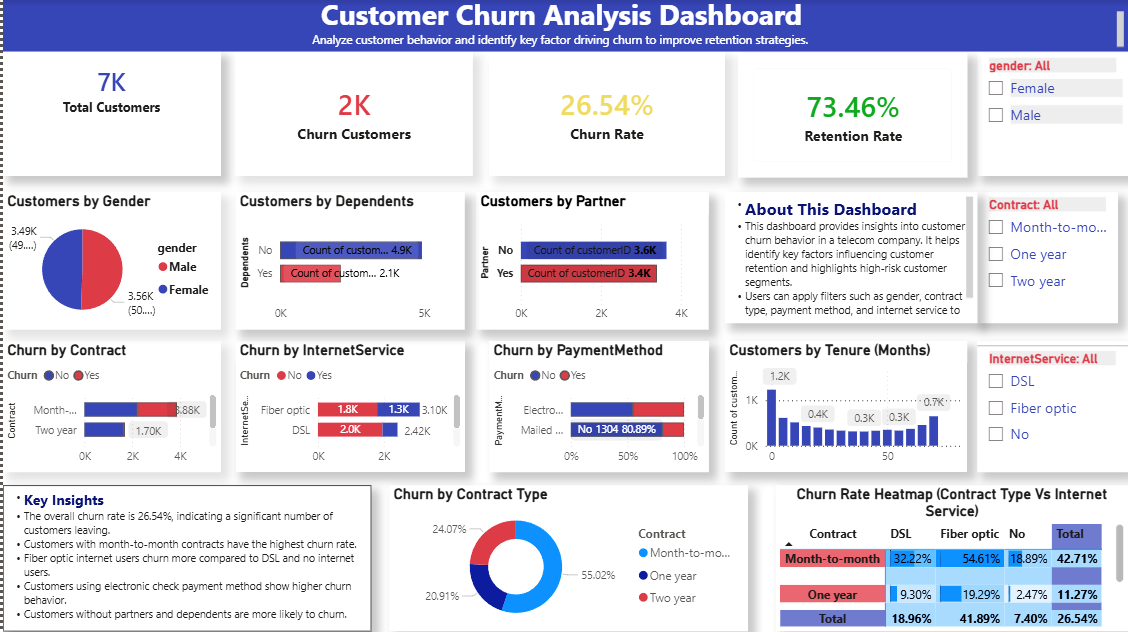

The dashboard page shown, as its layout file describes it:
{"tool":"powerbi","page":{"name":"Page 1","canvas":[1280,720],"ordinal":0},"visuals":[{"type":"cardVisual","fields":{"Data":["Telco_Customer_Churn_Dataset.Total Customers"]},"box":[0,59.6,247.8,141.6],"z":0},{"type":"cardVisual","fields":{"Data":["Telco_Customer_Churn_Dataset.Churn Customers"]},"box":[264.5,59.6,270.1,141.6],"z":1000},{"type":"cardVisual","fields":{"Data":["Telco_Customer_Churn_Dataset.Churn Rate"]},"box":[553.3,59.6,268.3,141.6],"z":2000},{"type":"clusteredBarChart","title":"Customers by Partner","fields":{"Category":["Telco_Customer_Churn_Dataset.Partner"],"Y":["CountNonNull(Telco_Customer_Churn_Dataset.customerID)"]},"box":[538.4,219.8,264.5,156.5],"z":4000},{"type":"clusteredColumnChart","title":"Customers by Tenure (Months)","fields":{"Y":["CountNonNull(Telco_Customer_Churn_Dataset.customerID)"],"Category":["Telco_Customer_Churn_Dataset.tenure (bins)"]},"box":[821.6,389.4,275.7,149],"z":5000},{"type":"barChart","title":"Churn by Contract","fields":{"Category":["Telco_Customer_Churn_Dataset.Contract"],"Y":["CountNonNull(Telco_Customer_Churn_Dataset.customerID)"],"Series":["Telco_Customer_Churn_Dataset.Churn"]},"box":[0,389.4,247.8,149],"z":6000},{"type":"hundredPercentStackedBarChart","title":"Churn by PaymentMethod ","fields":{"Category":["Telco_Customer_Churn_Dataset.PaymentMethod"],"Y":["CountNonNull(Telco_Customer_Churn_Dataset.Churn)"],"Series":["Telco_Customer_Churn_Dataset.Churn"]},"box":[553.3,389.4,249.6,149],"z":7000},{"type":"barChart","title":"Churn by InternetService ","fields":{"Category":["Telco_Customer_Churn_Dataset.InternetService"],"Series":["Telco_Customer_Churn_Dataset.Churn"],"Y":["CountNonNull(Telco_Customer_Churn_Dataset.customerID)"]},"box":[264.5,389.4,260.8,149],"z":8000},{"type":"clusteredBarChart","title":"Customers by Dependents","fields":{"Category":["Telco_Customer_Churn_Dataset.Dependents"],"Y":["CountNonNull(Telco_Customer_Churn_Dataset.customerID)"]},"box":[264.5,219.8,260.8,156.5],"z":9000},{"type":"slicer","fields":{"Values":["Telco_Customer_Churn_Dataset.gender"]},"box":[1108.5,61.5,171.4,139.7],"z":10000},{"type":"slicer","fields":{"Values":["Telco_Customer_Churn_Dataset.InternetService"]},"box":[1108.5,389.4,171.4,149],"z":11000},{"type":"slicer","fields":{"Values":["Telco_Customer_Churn_Dataset.Contract"]},"box":[1108.5,219.8,160.2,149],"z":12000},{"type":"textbox","box":[0,0,1279.8,59.6],"z":13000},{"type":"cardVisual","fields":{"Data":["Telco_Customer_Churn_Dataset.Retention Rate"]},"box":[836.5,61.5,260.8,141.6],"z":13001},{"type":"pieChart","title":"Customers by Gender","fields":{"Category":["Telco_Customer_Churn_Dataset.gender"],"Y":["CountNonNull(Telco_Customer_Churn_Dataset.customerID)"]},"box":[0,219.8,247.8,156.5],"z":13002},{"type":"pivotTable","title":"Churn Rate Heatmap (Contract Type Vs Internet Service)","fields":{"Rows":["Telco_Customer_Churn_Dataset.Contract"],"Columns":["Telco_Customer_Churn_Dataset.InternetService"],"Values":["Telco_Customer_Churn_Dataset.Churn Rate"]},"box":[879.3,553.3,400.5,165.8],"z":13003},{"type":"donutChart","title":"Churn by Contract Type","fields":{"Y":["CountNonNull(Telco_Customer_Churn_Dataset.customerID)"],"Series":["Telco_Customer_Churn_Dataset.Contract"]},"box":[439.7,553.3,408,165.8],"z":13004},{"type":"textbox","box":[0,553.3,419.2,165.8],"z":13005},{"type":"textbox","box":[821.6,219.8,286.9,149],"z":13006}]}

Visuals, with their boxes in screenshot pixels (x1, y1, x2, y2), scaled from the page's 1280x720 canvas onto the 1128x632 screenshot:
cardVisual - Telco_Customer_Churn_Dataset.Total Customers: <region>0, 52, 218, 177</region>
cardVisual - Telco_Customer_Churn_Dataset.Churn Customers: <region>233, 52, 471, 177</region>
cardVisual - Telco_Customer_Churn_Dataset.Churn Rate: <region>488, 52, 724, 177</region>
"Customers by Partner" clusteredBarChart: <region>474, 193, 708, 330</region>
"Customers by Tenure (Months)" clusteredColumnChart: <region>724, 342, 967, 473</region>
"Churn by Contract" barChart: <region>0, 342, 218, 473</region>
"Churn by PaymentMethod " hundredPercentStackedBarChart: <region>488, 342, 708, 473</region>
"Churn by InternetService " barChart: <region>233, 342, 463, 473</region>
"Customers by Dependents" clusteredBarChart: <region>233, 193, 463, 330</region>
slicer - Telco_Customer_Churn_Dataset.gender: <region>977, 54, 1127, 177</region>
slicer - Telco_Customer_Churn_Dataset.InternetService: <region>977, 342, 1127, 473</region>
slicer - Telco_Customer_Churn_Dataset.Contract: <region>977, 193, 1118, 324</region>
textbox: <region>0, 0, 1127, 52</region>
cardVisual - Telco_Customer_Churn_Dataset.Retention Rate: <region>737, 54, 967, 178</region>
"Customers by Gender" pieChart: <region>0, 193, 218, 330</region>
"Churn Rate Heatmap (Contract Type Vs Internet Service)" pivotTable: <region>775, 486, 1127, 631</region>
"Churn by Contract Type" donutChart: <region>387, 486, 747, 631</region>
textbox: <region>0, 486, 369, 631</region>
textbox: <region>724, 193, 977, 324</region>
